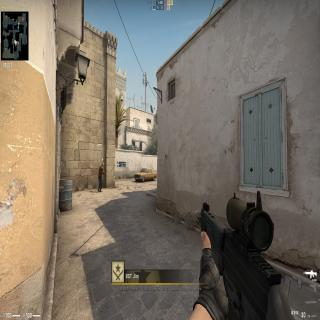T-Head: (101, 162, 105, 168)
